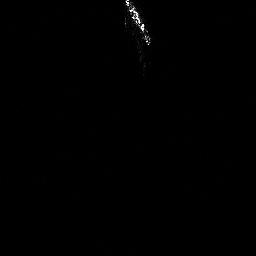ship: (122, 1, 155, 45)
